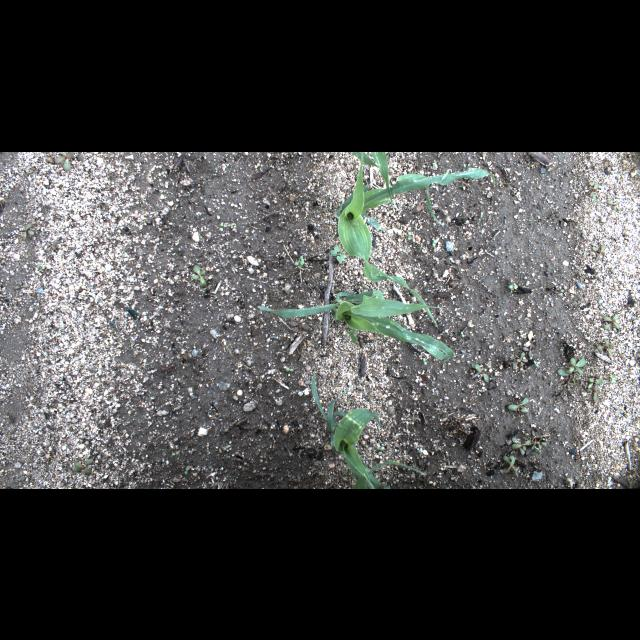crop: (334, 151, 496, 329), (257, 289, 469, 361), (312, 370, 424, 488), (351, 151, 395, 213)
weed: (557, 358, 585, 388), (512, 430, 546, 454), (55, 151, 85, 169), (507, 398, 529, 414), (73, 458, 94, 474), (501, 454, 517, 474), (192, 264, 206, 286), (582, 384, 600, 401), (598, 338, 614, 356), (602, 313, 620, 329), (472, 363, 488, 381), (290, 316, 308, 332), (18, 222, 34, 238), (592, 244, 606, 260), (330, 246, 346, 260), (198, 276, 212, 290), (14, 279, 30, 291), (588, 183, 598, 200), (606, 198, 620, 210), (46, 238, 58, 252), (588, 377, 602, 388), (294, 255, 304, 269), (314, 205, 328, 215), (508, 281, 518, 291), (518, 352, 528, 362), (524, 344, 532, 356), (576, 270, 584, 280), (404, 230, 412, 240), (609, 374, 617, 382), (285, 366, 295, 372), (518, 362, 524, 372), (172, 450, 180, 456), (38, 264, 46, 270), (522, 366, 530, 372), (362, 282, 368, 290), (377, 446, 383, 452), (185, 467, 189, 475), (433, 238, 437, 246), (228, 222, 235, 226), (223, 446, 229, 450), (423, 358, 427, 364), (534, 360, 538, 366), (560, 289, 564, 295), (220, 222, 222, 230), (131, 344, 133, 350)
